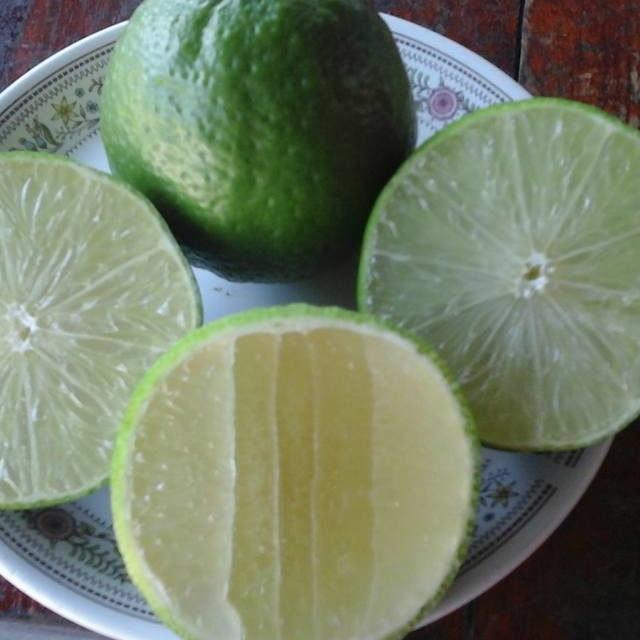lime: (92, 0, 426, 290)
